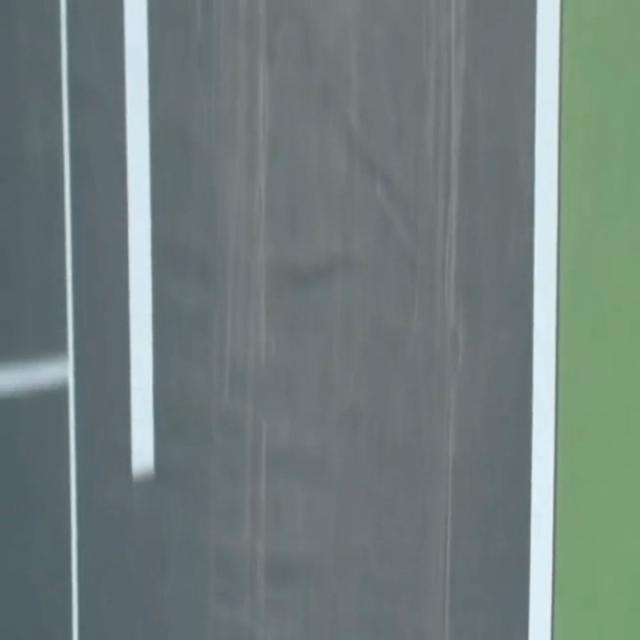center: (124, 0, 155, 481)
right: (528, 0, 560, 639)
